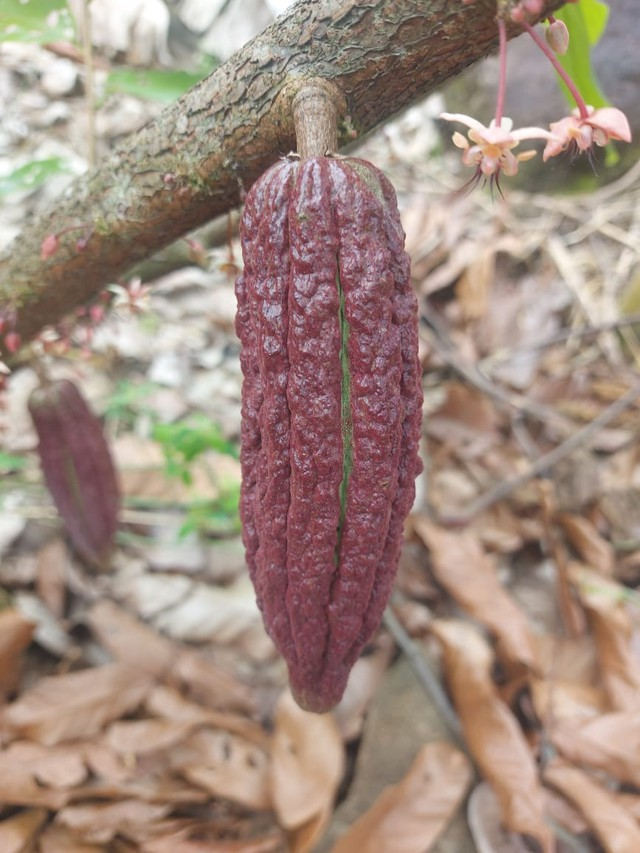Health: (232, 141, 430, 731)
